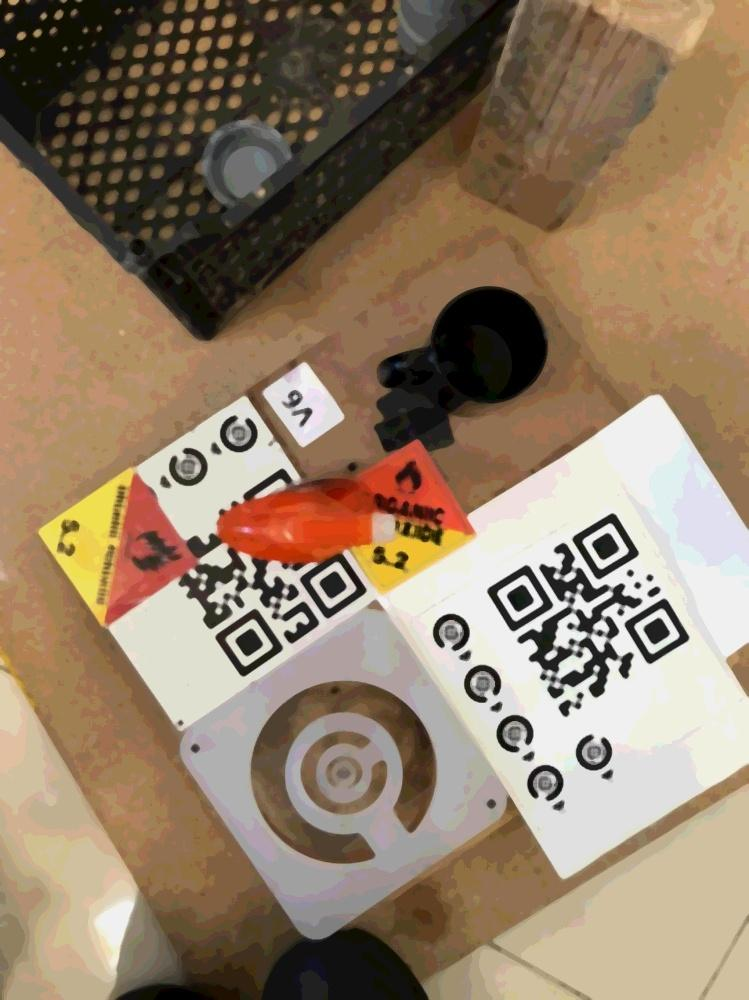organic-peroxide: (30, 468, 199, 636), (327, 442, 477, 592)
